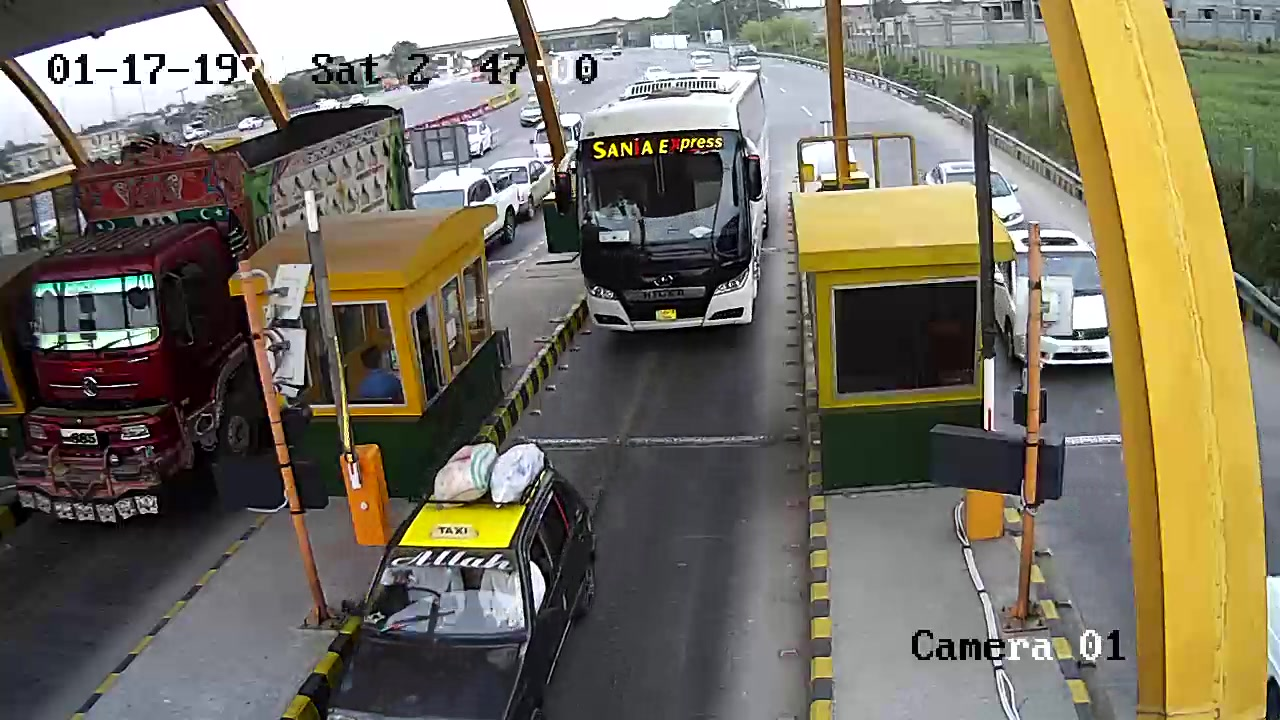F4: (565, 66, 775, 349)
